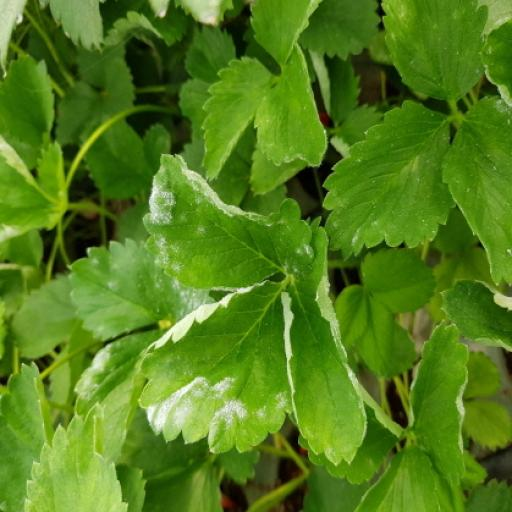Powdery Mildew Leaf: (136, 279, 293, 456), (141, 152, 316, 294), (281, 215, 368, 467), (66, 237, 211, 340), (73, 328, 167, 463), (407, 318, 470, 496)
